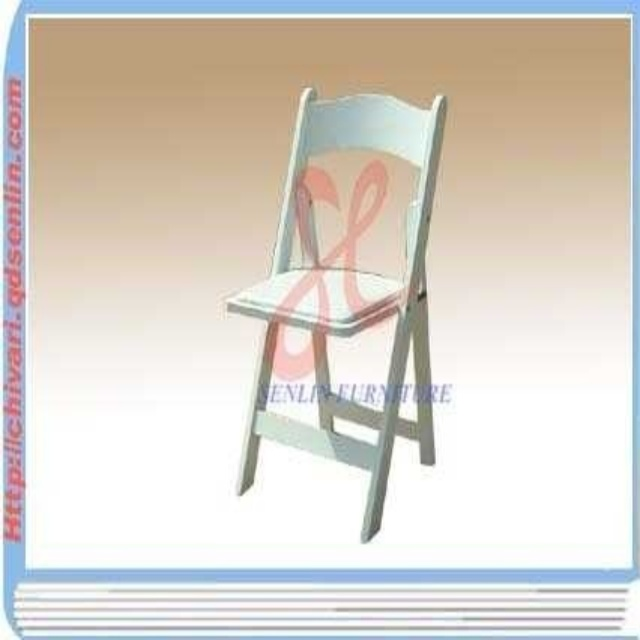obstacle: (224, 88, 446, 540)
